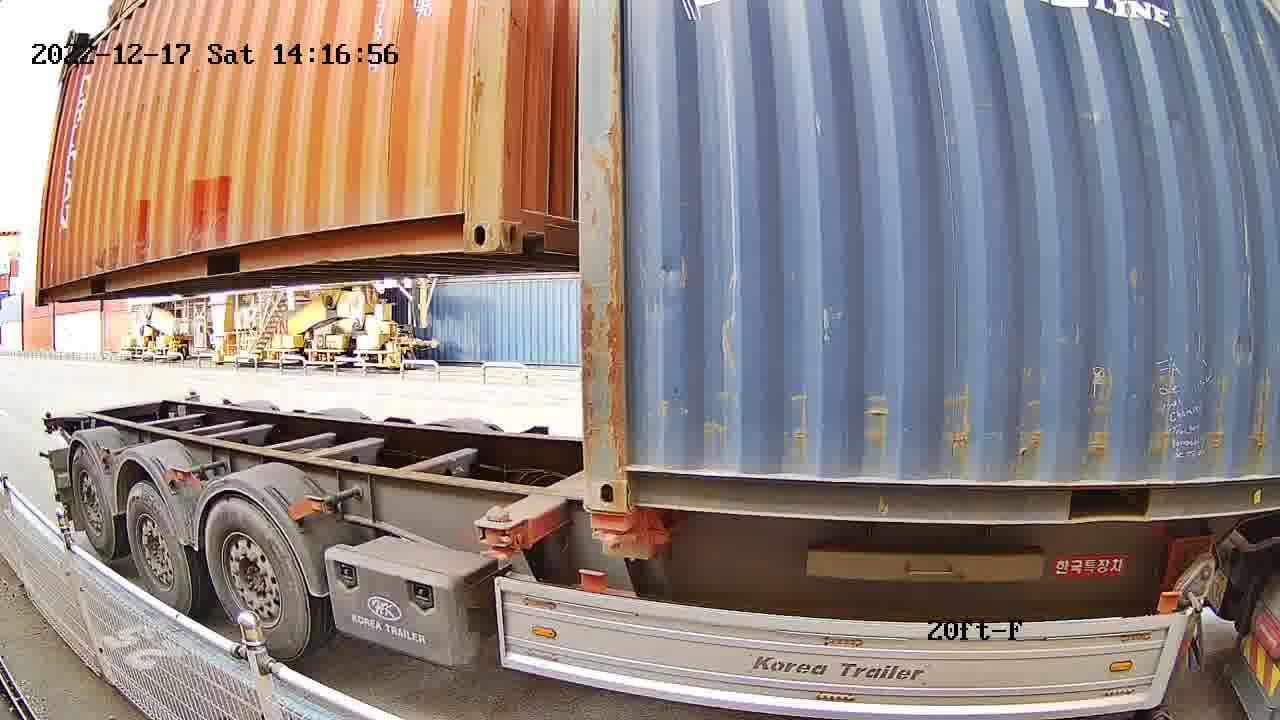Cone: (474, 499, 520, 566), (582, 510, 637, 557), (39, 406, 61, 440)
Hole_L: (583, 419, 683, 510), (499, 173, 564, 254)
Hole_R: (422, 180, 500, 253)
Tire: (201, 498, 310, 660), (127, 489, 191, 608), (70, 452, 111, 552)
